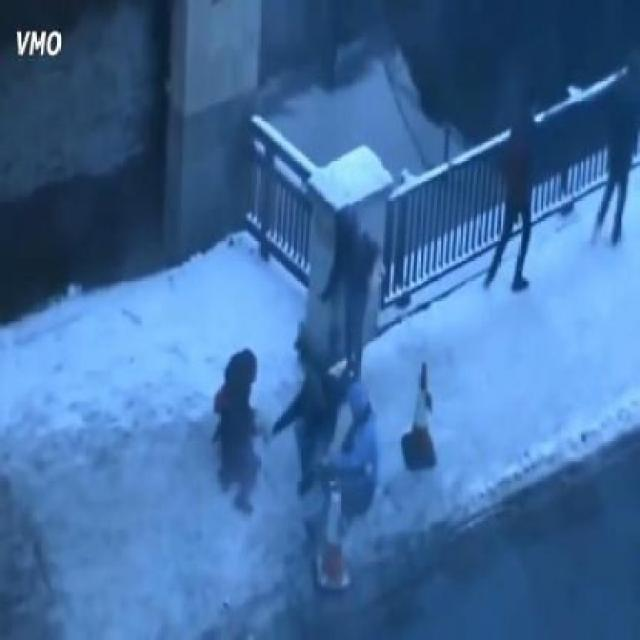fall: (324, 372, 387, 540), (216, 334, 269, 509), (278, 338, 338, 490)
